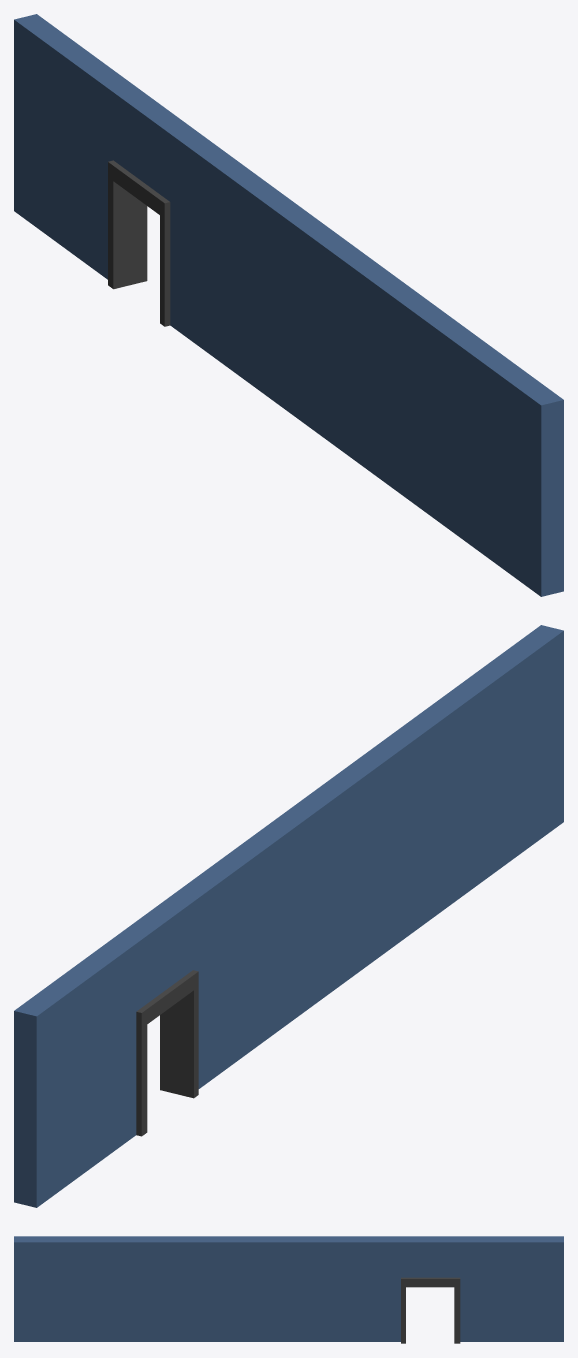
The model's file is Structure_Wall_BottomFloorRight_fbx_v01.fbx.
3 views of the same model, one above another, from view 1: azimuth 30°, elevation 25°; view 2: azimuth 150°, elevation 25°; view 3: azimuth 270°, elevation 25° (orthographic). The views are drawn at different scales.
Visible parts, largest first — view 1: Wall_BottomFloor_Right2; view 2: Wall_BottomFloor_Right2; view 3: Wall_BottomFloor_Right2.
Part boxes in pixels (x1,y1,x2,y2): Wall_BottomFloor_Right2: (14,14,563,596); Wall_BottomFloor_Right2: (14,625,563,1207); Wall_BottomFloor_Right2: (14,1236,563,1343).
Bounding box in the file's own units: 149 × 802 × 4000.
